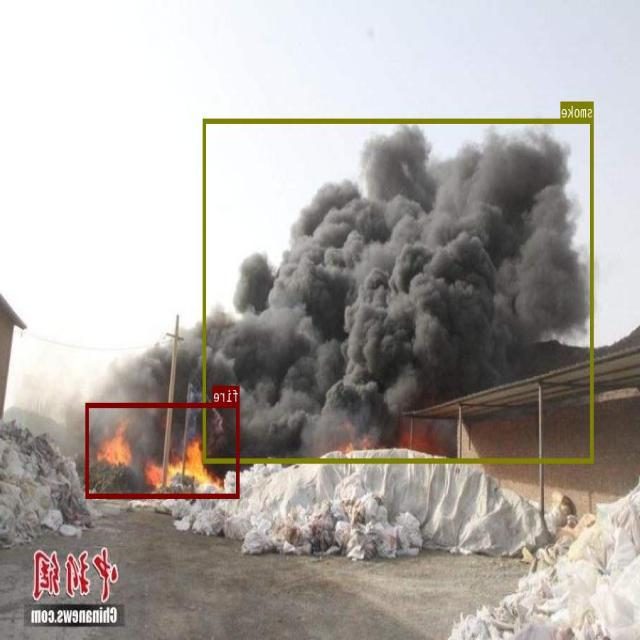fire: (86, 402, 240, 497)
smoke: (203, 118, 594, 462)
